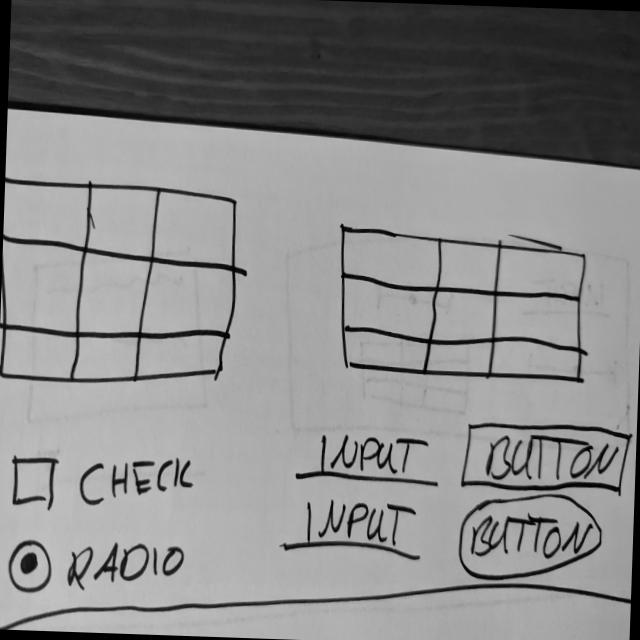button: (456, 488, 605, 585), (459, 419, 634, 498)
checkbox: (8, 444, 200, 518)
input: (279, 494, 428, 564), (292, 426, 441, 490)
radio: (4, 536, 188, 600)
table: (0, 171, 242, 391), (331, 220, 589, 389)
